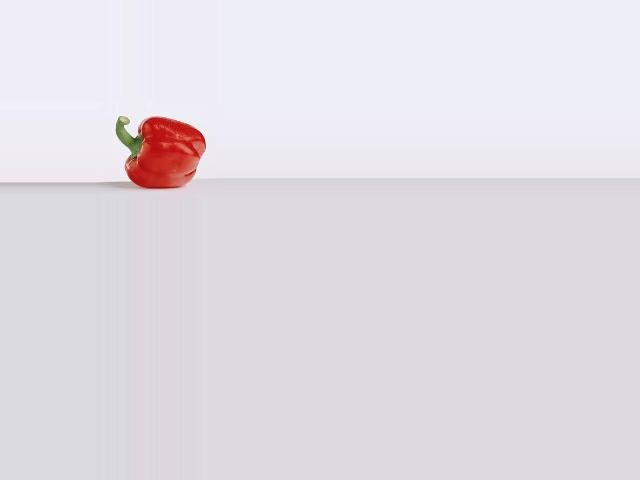bell_pepper: (107, 112, 210, 191)
